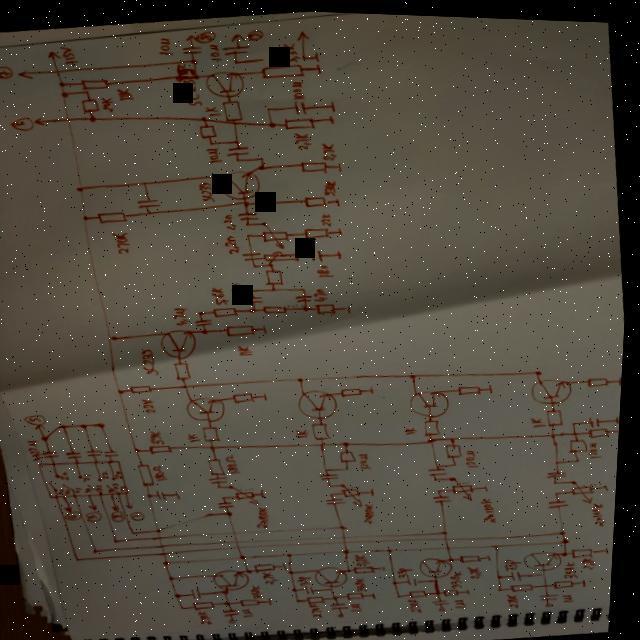capacitor: (220, 42, 249, 56), (223, 143, 250, 156), (236, 208, 261, 221), (241, 249, 267, 261), (136, 197, 162, 209), (315, 302, 340, 314), (556, 575, 582, 586), (511, 564, 529, 579), (547, 465, 571, 476), (429, 463, 452, 474), (179, 44, 202, 55), (549, 494, 572, 505), (107, 444, 125, 458), (435, 490, 457, 501), (291, 99, 307, 114), (309, 246, 325, 261), (209, 473, 233, 483), (321, 469, 342, 480), (542, 588, 565, 598), (245, 293, 265, 304), (333, 599, 355, 609), (226, 606, 246, 617), (157, 488, 173, 501), (220, 498, 239, 508), (194, 585, 207, 599), (435, 594, 454, 603), (67, 449, 84, 459), (88, 448, 105, 458), (46, 447, 61, 458), (590, 412, 603, 424), (307, 582, 321, 593), (410, 574, 425, 584)
crossover: (156, 526, 167, 533), (237, 542, 248, 549), (64, 115, 73, 123), (162, 541, 171, 548), (52, 68, 61, 75), (343, 532, 352, 538), (574, 426, 581, 433), (164, 550, 172, 556), (159, 534, 167, 540), (235, 528, 243, 534), (448, 541, 457, 546), (344, 537, 353, 542), (238, 537, 244, 543), (231, 119, 237, 124), (547, 579, 553, 584), (447, 533, 453, 538), (83, 90, 89, 95)
diode: (295, 291, 314, 301)
ground: (327, 96, 337, 111), (335, 158, 345, 171), (345, 301, 355, 313), (326, 112, 336, 123), (604, 477, 614, 487), (261, 322, 270, 333), (335, 247, 344, 258), (311, 50, 320, 61), (177, 489, 186, 500), (285, 558, 293, 570), (618, 370, 626, 382), (372, 483, 380, 495), (314, 60, 321, 73), (606, 541, 615, 551), (335, 194, 343, 205), (489, 380, 497, 391), (337, 224, 344, 235), (263, 486, 270, 497), (585, 573, 592, 584), (485, 480, 493, 489), (271, 594, 278, 604), (616, 410, 623, 420), (370, 383, 377, 392), (384, 561, 391, 570), (375, 589, 382, 598), (618, 421, 624, 431), (469, 585, 477, 592), (265, 390, 271, 399), (490, 550, 496, 558)
junction: (74, 183, 86, 193), (108, 333, 122, 341), (55, 80, 67, 89), (266, 119, 277, 128), (143, 209, 155, 217), (240, 198, 252, 206), (201, 327, 212, 335), (176, 591, 187, 599), (58, 90, 69, 98), (98, 421, 109, 429), (60, 423, 71, 431), (296, 374, 308, 381), (225, 587, 235, 595), (263, 104, 273, 112), (343, 546, 354, 553), (241, 552, 252, 559), (534, 365, 545, 372), (340, 521, 351, 528), (563, 534, 574, 541), (248, 305, 259, 312), (495, 539, 506, 546), (43, 435, 54, 442), (134, 446, 143, 454), (165, 558, 174, 566), (428, 434, 437, 442), (398, 590, 407, 598), (87, 115, 97, 122), (301, 303, 311, 310), (229, 58, 239, 65), (410, 370, 420, 377), (499, 583, 509, 590), (81, 422, 91, 429), (197, 114, 207, 121), (140, 179, 150, 186), (187, 57, 197, 64), (227, 598, 237, 605), (148, 491, 158, 498), (344, 438, 353, 445), (94, 547, 103, 554), (118, 388, 127, 395), (257, 163, 266, 170), (498, 570, 507, 577), (81, 214, 90, 221), (320, 441, 329, 448), (552, 428, 561, 435), (192, 72, 201, 79), (229, 509, 238, 516), (171, 573, 180, 580), (564, 547, 573, 554), (395, 576, 404, 583), (389, 544, 397, 551), (232, 136, 240, 143), (184, 382, 192, 389), (562, 525, 570, 532), (295, 584, 303, 591), (444, 527, 453, 533), (555, 455, 564, 461), (198, 309, 207, 315), (436, 575, 445, 581), (250, 566, 257, 573), (452, 552, 459, 559), (451, 433, 459, 439), (289, 550, 297, 556), (233, 156, 241, 162), (77, 556, 85, 562), (245, 231, 253, 237), (260, 219, 268, 225), (572, 475, 580, 481), (210, 444, 219, 449), (248, 287, 257, 292), (543, 568, 552, 573), (451, 473, 460, 478), (572, 417, 579, 423), (298, 596, 305, 602), (439, 587, 446, 593), (332, 584, 339, 590), (300, 285, 308, 290), (336, 593, 344, 598), (268, 260, 274, 266), (133, 530, 140, 535), (271, 286, 278, 291), (252, 262, 259, 267), (219, 483, 226, 488), (223, 493, 230, 498), (117, 539, 123, 544), (258, 155, 264, 160), (577, 454, 583, 459), (208, 140, 214, 145), (184, 605, 190, 610), (557, 487, 563, 492), (438, 460, 444, 465), (455, 459, 461, 464), (435, 474, 441, 479), (439, 485, 445, 490), (292, 567, 298, 572), (327, 466, 333, 471), (348, 464, 354, 469), (300, 53, 306, 58), (246, 220, 252, 225), (343, 480, 349, 485), (556, 476, 561, 481), (351, 565, 356, 570), (331, 481, 336, 485), (332, 490, 337, 494)
resistor: (229, 480, 264, 506), (258, 60, 304, 79), (261, 226, 294, 250), (451, 476, 481, 500), (263, 245, 300, 264), (341, 484, 370, 507), (220, 97, 243, 122), (573, 479, 599, 501), (96, 209, 131, 225), (298, 156, 329, 174), (225, 322, 260, 337), (282, 114, 316, 129), (231, 388, 262, 404), (312, 419, 335, 440), (300, 191, 328, 208), (79, 76, 110, 91), (141, 462, 160, 486), (209, 455, 230, 476), (264, 266, 286, 286), (303, 224, 332, 239), (424, 415, 445, 435), (547, 403, 567, 424), (175, 360, 195, 380), (204, 423, 225, 442), (212, 305, 242, 318), (458, 380, 485, 394), (78, 97, 100, 114), (571, 433, 591, 450), (314, 301, 340, 314), (262, 301, 290, 313), (150, 442, 175, 455), (573, 542, 598, 555), (555, 574, 582, 586), (197, 122, 216, 139), (447, 439, 466, 456), (259, 557, 280, 572), (589, 422, 613, 435), (588, 371, 611, 384), (512, 579, 538, 590), (131, 383, 156, 394), (195, 599, 220, 610), (356, 562, 381, 573), (341, 447, 360, 461), (412, 585, 436, 596), (342, 384, 365, 395), (463, 550, 486, 561), (325, 493, 349, 503), (350, 588, 371, 599), (308, 593, 330, 603), (243, 596, 266, 605), (196, 316, 215, 326), (447, 583, 464, 594)
switch: (63, 473, 88, 493), (89, 476, 108, 495), (108, 475, 125, 495), (49, 473, 66, 492)
terminal: (16, 68, 33, 81), (228, 31, 245, 42), (293, 29, 309, 40), (45, 50, 60, 60), (32, 118, 45, 127), (36, 424, 51, 431), (113, 503, 125, 511), (91, 503, 104, 510), (184, 33, 195, 41), (66, 505, 78, 512), (232, 615, 242, 623), (129, 502, 139, 508), (548, 599, 558, 604), (442, 604, 450, 610), (341, 611, 350, 616)
text: (179, 77, 204, 108), (481, 493, 503, 521), (140, 347, 161, 375), (56, 44, 79, 68), (112, 229, 133, 255), (196, 178, 216, 203), (291, 129, 312, 151), (27, 439, 47, 462), (593, 498, 611, 523), (8, 116, 34, 133), (173, 304, 192, 327), (223, 232, 242, 254), (280, 40, 299, 62), (364, 500, 381, 524), (210, 284, 229, 305), (154, 35, 172, 57), (227, 451, 245, 473), (258, 505, 275, 528), (204, 145, 224, 164), (410, 593, 429, 612), (318, 139, 336, 159), (466, 446, 484, 466), (288, 78, 305, 99), (113, 86, 135, 102), (150, 427, 168, 446), (321, 177, 339, 196), (221, 212, 239, 231), (565, 557, 584, 575), (452, 567, 469, 587), (506, 554, 528, 569), (205, 42, 222, 61), (192, 29, 215, 43), (26, 413, 49, 427), (355, 549, 377, 563), (456, 592, 474, 609), (359, 449, 376, 467), (589, 437, 607, 454), (508, 589, 526, 606), (317, 262, 337, 277), (201, 608, 218, 625), (470, 561, 488, 577), (266, 568, 284, 584), (313, 285, 331, 301), (238, 341, 257, 356), (99, 96, 115, 113), (312, 600, 328, 617), (400, 562, 419, 576), (155, 463, 169, 482), (531, 411, 550, 425), (357, 574, 373, 590), (135, 506, 152, 521), (252, 583, 268, 598), (143, 398, 158, 414), (585, 552, 601, 567), (203, 104, 222, 116), (244, 28, 263, 40), (353, 598, 370, 611), (112, 508, 129, 521), (0, 64, 13, 81), (231, 281, 245, 296), (300, 572, 316, 585), (90, 510, 106, 523), (297, 425, 314, 437), (319, 211, 333, 225), (245, 605, 260, 617), (404, 423, 420, 433), (564, 589, 580, 599), (189, 431, 204, 441), (197, 31, 212, 41), (69, 511, 85, 520), (84, 472, 95, 483), (62, 470, 73, 481), (30, 417, 46, 424), (245, 31, 261, 38), (116, 468, 126, 479), (0, 69, 11, 78), (104, 469, 113, 479), (14, 120, 25, 127), (116, 512, 126, 519), (91, 513, 102, 519), (115, 481, 122, 490), (78, 485, 87, 492), (121, 485, 130, 492), (61, 487, 68, 495), (71, 514, 82, 519), (99, 483, 108, 489), (136, 513, 146, 518), (88, 486, 96, 491), (69, 489, 75, 495), (111, 488, 116, 493)
transistor: (297, 385, 342, 420), (201, 66, 247, 100), (216, 168, 262, 201), (409, 384, 455, 417), (160, 326, 200, 361), (531, 372, 575, 403), (187, 393, 230, 424), (216, 565, 257, 591), (526, 544, 568, 569), (422, 552, 459, 577), (317, 562, 354, 586)
